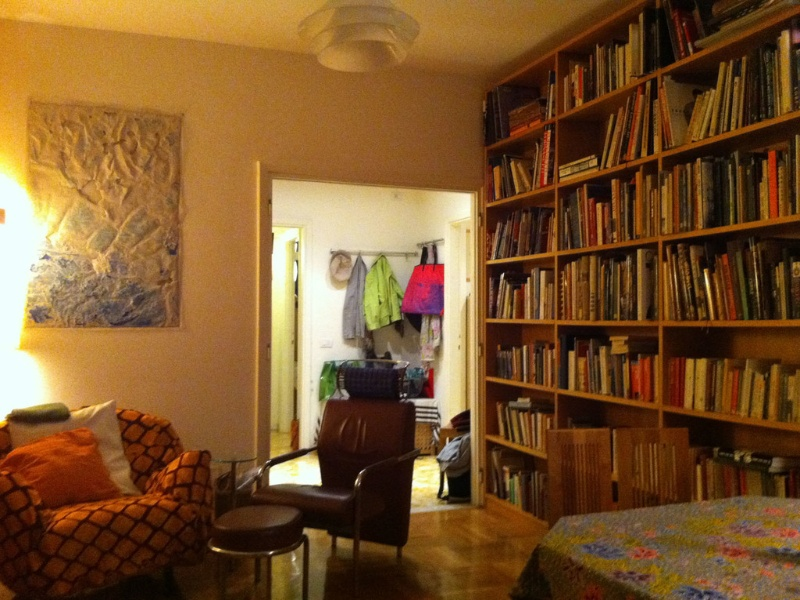book: (597, 174, 662, 236), (697, 436, 800, 475), (518, 126, 559, 187), (602, 330, 661, 361)
chair: (252, 382, 437, 577)
